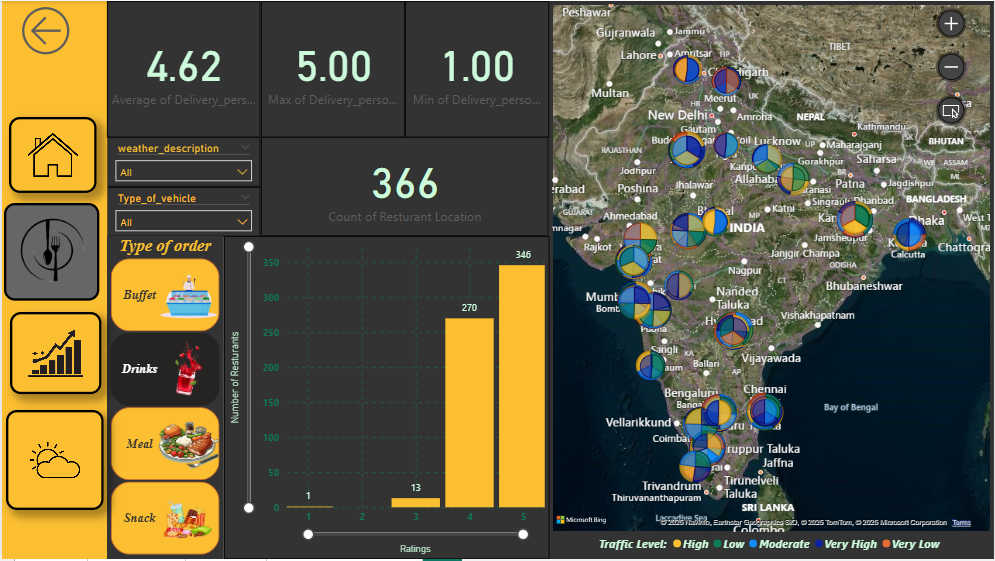

Layout of this report page (visuals, bound fields, positions):
{"tool":"powerbi","page":{"name":"Resturants","canvas":[1280,720],"ordinal":1},"visuals":[{"type":"map","fields":{"X":["clean_Food_Time_Data_set.Restaurant_longitude"],"Y":["clean_Food_Time_Data_set.Restaurant_latitude"],"Size":["Max(clean_Food_Time_Data_set.Delivery_person_Ratings)"],"Series":["clean_Food_Time_Data_set.Traffic_Level"]},"box":[705.8,0,574,720],"z":0},{"type":"slicer","fields":{"Values":["clean_Food_Time_Data_set.Type_of_vehicle"]},"box":[136.1,239.5,198.4,63.8],"z":1000},{"type":"card","fields":{"Values":["Count(clean_Food_Time_Data_set.Resturant Location)"]},"box":[334.5,175.7,371.3,127.6],"z":2000},{"type":"slicer","fields":{"Values":["clean_Food_Time_Data_set.weather_description"]},"box":[136.1,175.7,198.4,63.8],"z":3000},{"type":"shape","box":[0,0,136.1,720.6],"z":4000},{"type":"advancedSlicerVisual","title":"Type of order","fields":{"Values":["type_of_order.Type_of_order"]},"box":[136.1,303.3,150.2,416.7],"z":5000},{"type":"card","fields":{"Values":["Avg(clean_Food_Time_Data_set.Delivery_person_Ratings)"]},"box":[136.1,0,198.4,175.7],"z":6000},{"type":"clusteredColumnChart","fields":{"Y":["Count(clean_Food_Time_Data_set.Restaurant_latitude)"],"Category":["clean_Food_Time_Data_set.Delivery_person_Ratings - Copy"]},"box":[286.3,303.3,419.5,416.7],"z":7000},{"type":"card","fields":{"Values":["Max(clean_Food_Time_Data_set.Delivery_person_Ratings)"]},"box":[334.5,0,185.7,175.7],"z":8000},{"type":"card","fields":{"Values":["Min(clean_Food_Time_Data_set.Delivery_person_Ratings)"]},"box":[520.2,0,185.7,175.7],"z":9000},{"type":"actionButton","box":[18.3,0,101.7,76.7],"z":10000},{"type":"image","box":[8.5,150.2,113.4,97.8],"z":11000},{"type":"image","box":[2.8,260.8,123.3,126.1],"z":12000},{"type":"image","box":[9.9,401.1,117.6,106.3],"z":13000},{"type":"image","box":[5.7,527.2,126.1,129],"z":14000}]}

Visuals, with their boxes in screenshot pixels (x1, y1, x2, y2), scaled from the page's 1280x720 canvas onto the 995x561 screenshot:
map - clean_Food_Time_Data_set.Restaurant_longitude x clean_Food_Time_Data_set.Restaurant_latitude: x1=549, y1=0, x2=994, y2=560
slicer - clean_Food_Time_Data_set.Type_of_vehicle: x1=106, y1=187, x2=260, y2=236
card - Count(clean_Food_Time_Data_set.Resturant Location): x1=260, y1=137, x2=549, y2=236
slicer - clean_Food_Time_Data_set.weather_description: x1=106, y1=137, x2=260, y2=187
shape: x1=0, y1=0, x2=106, y2=560
"Type of order" advancedSlicerVisual: x1=106, y1=236, x2=223, y2=560
card - Avg(clean_Food_Time_Data_set.Delivery_person_Ratings): x1=106, y1=0, x2=260, y2=137
clusteredColumnChart - Count(clean_Food_Time_Data_set.Restaurant_latitude) x clean_Food_Time_Data_set.Delivery_person_Ratings - Copy: x1=223, y1=236, x2=549, y2=560
card - Max(clean_Food_Time_Data_set.Delivery_person_Ratings): x1=260, y1=0, x2=404, y2=137
card - Min(clean_Food_Time_Data_set.Delivery_person_Ratings): x1=404, y1=0, x2=549, y2=137
actionButton: x1=14, y1=0, x2=93, y2=60
image: x1=7, y1=117, x2=95, y2=193
image: x1=2, y1=203, x2=98, y2=301
image: x1=8, y1=313, x2=99, y2=395
image: x1=4, y1=411, x2=102, y2=511
